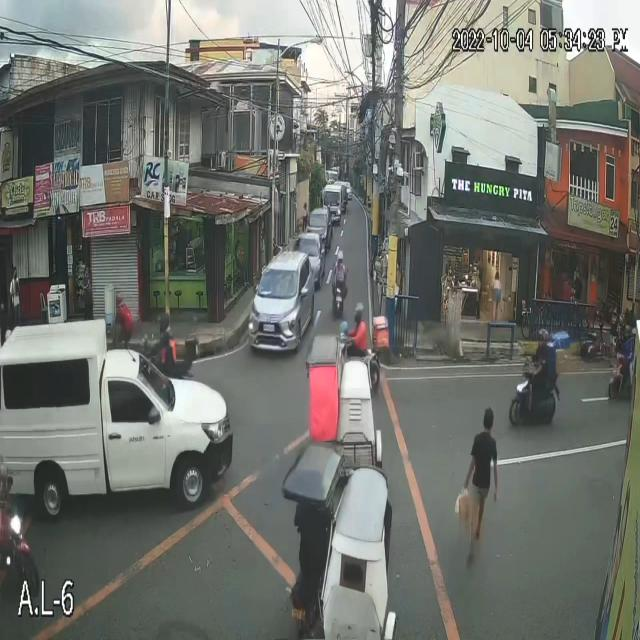Full-Faced: (348, 294, 364, 325), (154, 307, 171, 332), (536, 328, 550, 348), (336, 246, 346, 266)
